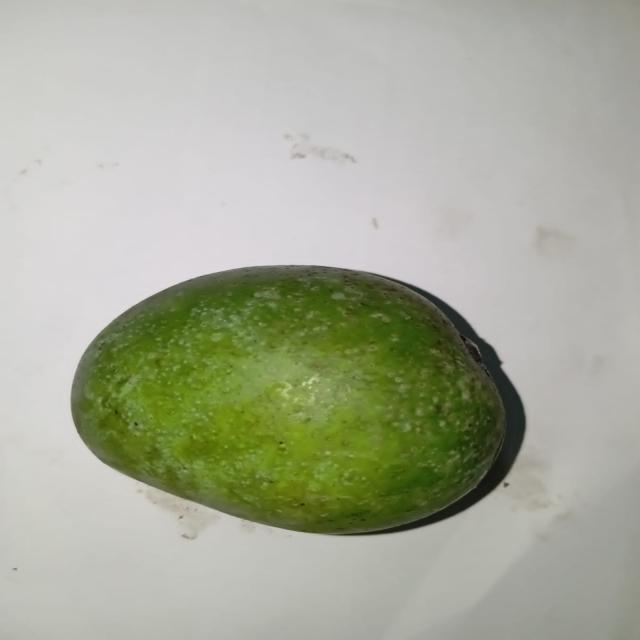rotten_mango: (69, 262, 506, 533)
